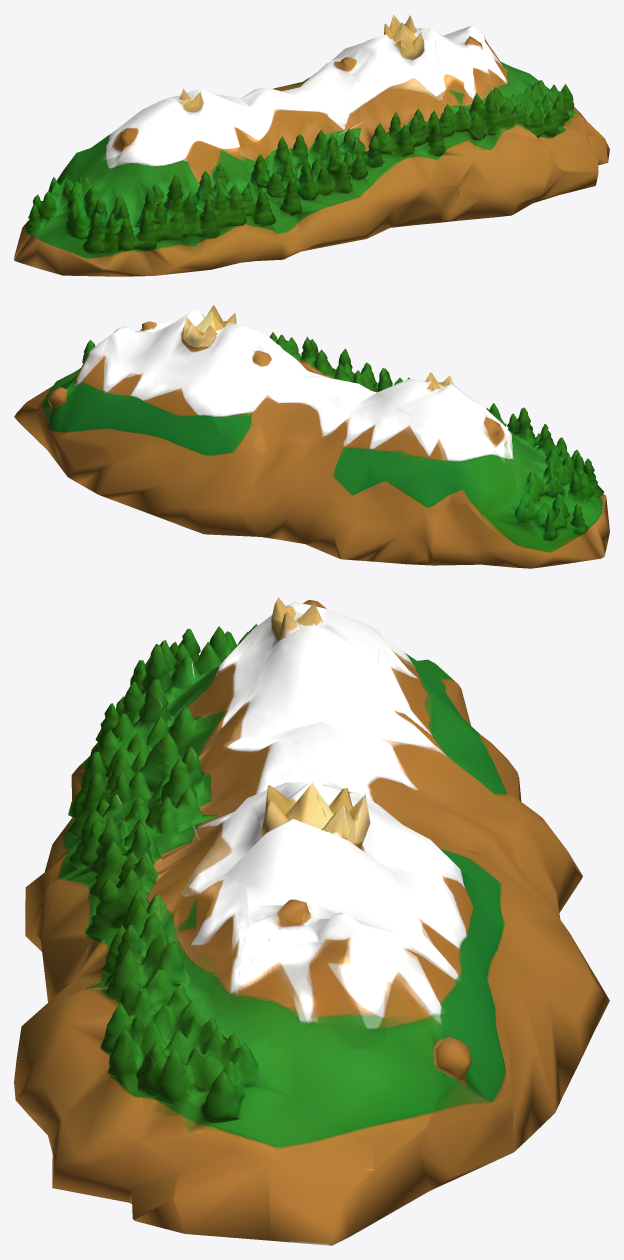
Rendered from mountains.glb.
The picture shows the model from 3 angles, top to bottom: view 1: azimuth 30°, elevation 25°; view 2: azimuth 150°, elevation 25°; view 3: azimuth 270°, elevation 25°; orthographic projection. The views are drawn at different scales.
Parts seen in each view (by area): view 1: Mesh_0; view 2: Mesh_0; view 3: Mesh_0.
Part boxes in pixels (box(x1,y1,x2,y2)): Mesh_0: box(14, 14, 609, 276); Mesh_0: box(14, 305, 609, 568); Mesh_0: box(14, 597, 609, 1245).
Bounding box in the file's own units: 1.9 × 0.4641 × 0.8771.
Materials: 1 (1 with a texture image).
